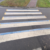zebra: (1, 9, 50, 42)
